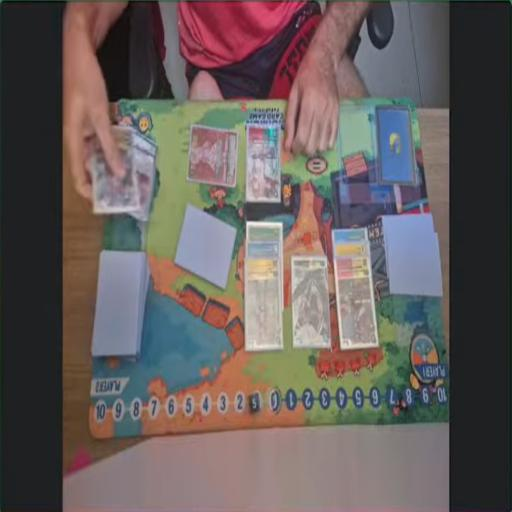card: (242, 257, 286, 351), (335, 254, 375, 351), (93, 124, 135, 213), (293, 255, 328, 350), (191, 123, 238, 190), (245, 121, 282, 201), (129, 132, 158, 216), (245, 220, 282, 248), (329, 224, 369, 248), (332, 240, 370, 265), (246, 242, 281, 268)
